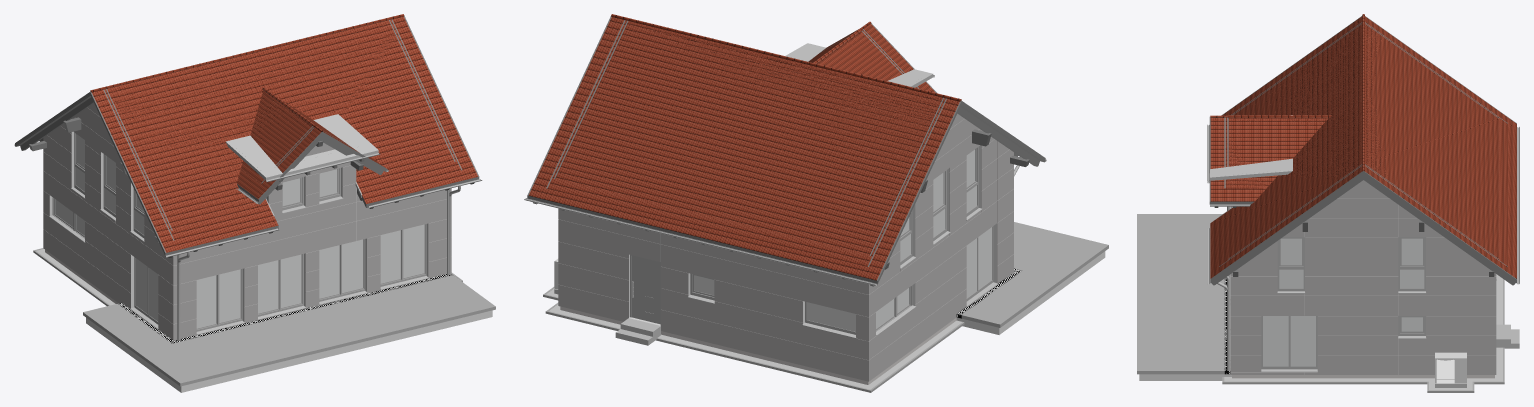
The model's file is building_000.dae.
3 renders of one model, left to right at view 1: azimuth 30°, elevation 25°; view 2: azimuth 150°, elevation 25°; view 3: azimuth 270°, elevation 25°, orthographic. The views are drawn at different scales.
Visible parts, largest first — view 1: roof_000, Geschossd2, plane_wall_002, plane_wall_001, roof_002, Allgemei42_001, Fassadenp2_001, Geschossd3, LUXHAUS_-1, LUXHAUS_-1_003, LUXHAUS_-1_002, LUXHAUS_-1_001 (+25 smaller); view 2: roof_002, plane_wall_000, roof_000, plane_wall_001, roof_001, Fassadenp2_001, Geschossd2, Fassadenp1_001, Basisdac22, Basisdac14, Unterregi0, LUXHAUS_-2 (+20 smaller); view 3: roof_002, roof_000, plane_wall_003, Fassadenp0_001, Geschossd2, Basisdac33, Basisdac22, roof_001, LUXHAUS_-7, Unterregi0, Fenster_10_Fenster_13_001, Fenster_10_Fenster_13 (+16 smaller).
Boxes of the visible parts, box(x1,y1,x2,y2) form: roof_000: box(15, 16, 478, 256); Geschossd2: box(83, 275, 495, 386); plane_wall_002: box(173, 198, 451, 340); plane_wall_001: box(43, 171, 173, 339); roof_002: box(108, 22, 396, 227); Allgemei42_001: box(173, 162, 451, 265); Fassadenp2_001: box(43, 103, 173, 265); Geschossd3: box(86, 310, 492, 392); LUXHAUS_-1: box(319, 239, 367, 304); LUXHAUS_-1_003: box(380, 224, 428, 289); LUXHAUS_-1_002: box(196, 269, 244, 334); LUXHAUS_-1_001: box(258, 254, 305, 319); roof_002: box(555, 21, 942, 255); plane_wall_000: box(558, 219, 868, 381); roof_000: box(528, 17, 1044, 284); plane_wall_001: box(868, 189, 1013, 381); roof_001: box(547, 22, 944, 266); Fassadenp2_001: box(868, 113, 1013, 294); Geschossd2: box(961, 222, 1108, 327); Fassadenp1_001: box(558, 208, 868, 294); Basisdac22: box(527, 16, 1045, 286); Basisdac14: box(815, 30, 917, 88); Unterregi0: box(546, 288, 962, 389); LUXHAUS_-2: box(966, 226, 997, 306); roof_002: box(1269, 25, 1499, 258); roof_000: box(1210, 16, 1516, 283); plane_wall_003: box(1230, 296, 1496, 374); Fassadenp0_001: box(1230, 180, 1496, 295); Geschossd2: box(1137, 214, 1224, 374); Basisdac33: box(1210, 118, 1328, 204); Basisdac22: box(1210, 16, 1516, 285); roof_001: box(1285, 23, 1507, 266); LUXHAUS_-7: box(1261, 316, 1317, 371); Unterregi0: box(1224, 274, 1502, 390); Fenster_10_Fenster_13_001: box(1398, 237, 1426, 293); Fenster_10_Fenster_13: box(1277, 237, 1305, 293).
Size of what is drawn, in the model's own units: 8.66 by 8.24 by 5.27.
Materials: 115 (9 with a texture image).
